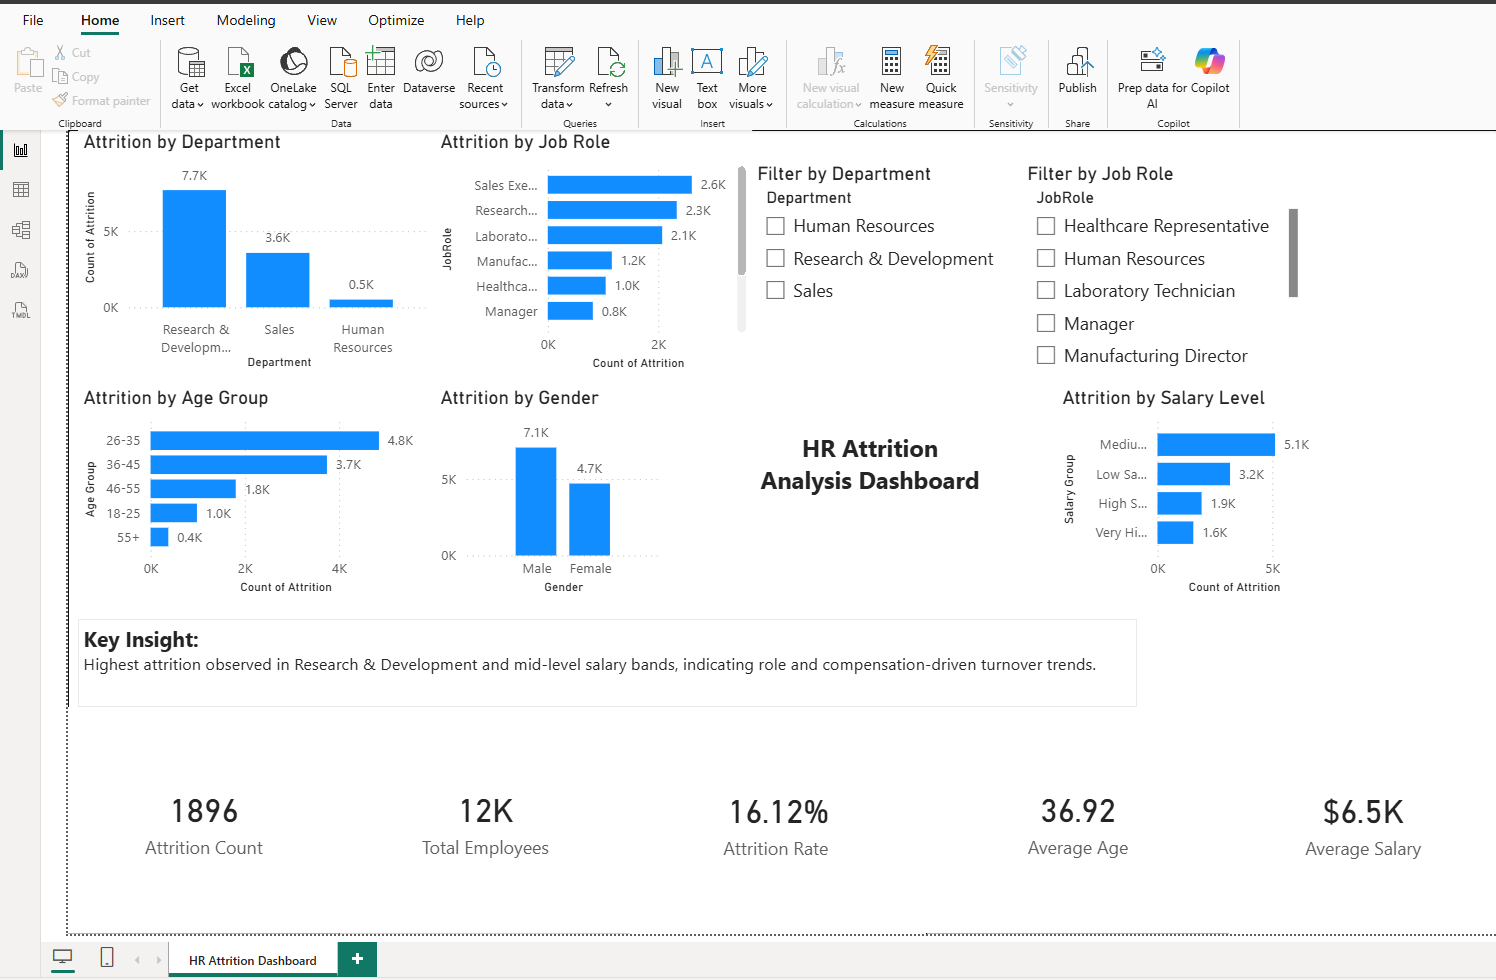

What the dashboard file says about the page in this screenshot:
{"tool":"powerbi","page":{"name":"HR Attrition Dashboard","canvas":[1280,720],"ordinal":0},"visuals":[{"type":"card","fields":{"Values":["Employees.Total Employees"]},"box":[243.3,515.8,260.4,203.9],"z":0},{"type":"card","fields":{"Values":["Employees.Attrition Count"]},"box":[0,516.8,243.3,202.9],"z":1000},{"type":"card","fields":{"Values":["Employees.Attrition Rate"]},"box":[503.7,516.8,265.5,203.9],"z":2000},{"type":"card","fields":{"Values":["Employees.Average Age"]},"box":[769.2,516.8,270.5,202.9],"z":3000},{"type":"card","fields":{"Values":["Employees.Average_Salary"]},"box":[1039.7,516.8,240.3,203.9],"z":4000},{"type":"clusteredColumnChart","title":"Attrition by Department","fields":{"Category":["Employees.Department"],"Y":["CountNonNull(Employees.Attrition)"]},"box":[9.3,0,320,218.8],"z":5000},{"type":"clusteredBarChart","title":"Attrition by Job Role","fields":{"Y":["CountNonNull(Employees.Attrition)"],"Category":["Employees.JobRole"]},"box":[329.1,0,283.7,219.1],"z":6000},{"type":"clusteredBarChart","title":"Attrition by Age Group","fields":{"Y":["CountNonNull(Employees.Attrition)"],"Category":["Employees.Age Group"]},"box":[9.1,229.1,320,190.8],"z":7000},{"type":"slicer","title":"Filter by Department","fields":{"Values":["Employees.Department"]},"box":[612.7,28.3,240.3,190.8],"z":8000},{"type":"slicer","title":"Filter by Job Role","fields":{"Values":["Employees.JobRole"]},"box":[854,28.3,252.4,190.8],"z":9000},{"type":"clusteredColumnChart","title":"Attrition by Gender","fields":{"Category":["Employees.Gender"],"Y":["CountNonNull(Employees.Attrition)"]},"box":[329.1,229.1,206.9,190.8],"z":10000},{"type":"clusteredBarChart","title":"Attrition by Salary Level","fields":{"Category":["Employees.Salary Group"],"Y":["CountNonNull(Employees.Attrition)"]},"box":[885.3,229.1,240.3,190.8],"z":11000},{"type":"textbox","box":[9,437.9,948.4,78.8],"z":12000},{"type":"textbox","box":[612.5,265.1,211.3,77.9],"z":12001}]}

Visuals, with their boxes on the page's 1280x720 design canvas (x1, y1, x2, y2). These are canvas units, not pixel positions in the 1496x980 screenshot, which may show the page scaled, cropped or inside an application window:
card - Employees.Total Employees: x1=243 y1=516 x2=504 y2=720
card - Employees.Attrition Count: x1=0 y1=517 x2=243 y2=720
card - Employees.Attrition Rate: x1=504 y1=517 x2=769 y2=721
card - Employees.Average Age: x1=769 y1=517 x2=1040 y2=720
card - Employees.Average_Salary: x1=1040 y1=517 x2=1280 y2=721
"Attrition by Department" clusteredColumnChart: x1=9 y1=0 x2=329 y2=219
"Attrition by Job Role" clusteredBarChart: x1=329 y1=0 x2=613 y2=219
"Attrition by Age Group" clusteredBarChart: x1=9 y1=229 x2=329 y2=420
"Filter by Department" slicer: x1=613 y1=28 x2=853 y2=219
"Filter by Job Role" slicer: x1=854 y1=28 x2=1106 y2=219
"Attrition by Gender" clusteredColumnChart: x1=329 y1=229 x2=536 y2=420
"Attrition by Salary Level" clusteredBarChart: x1=885 y1=229 x2=1126 y2=420
textbox: x1=9 y1=438 x2=957 y2=517
textbox: x1=612 y1=265 x2=824 y2=343
